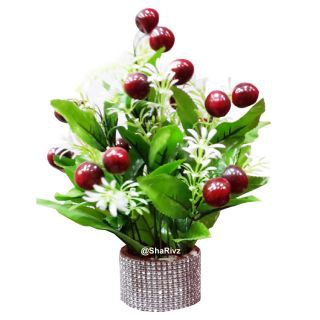flowerpot: (118, 243, 201, 311)
